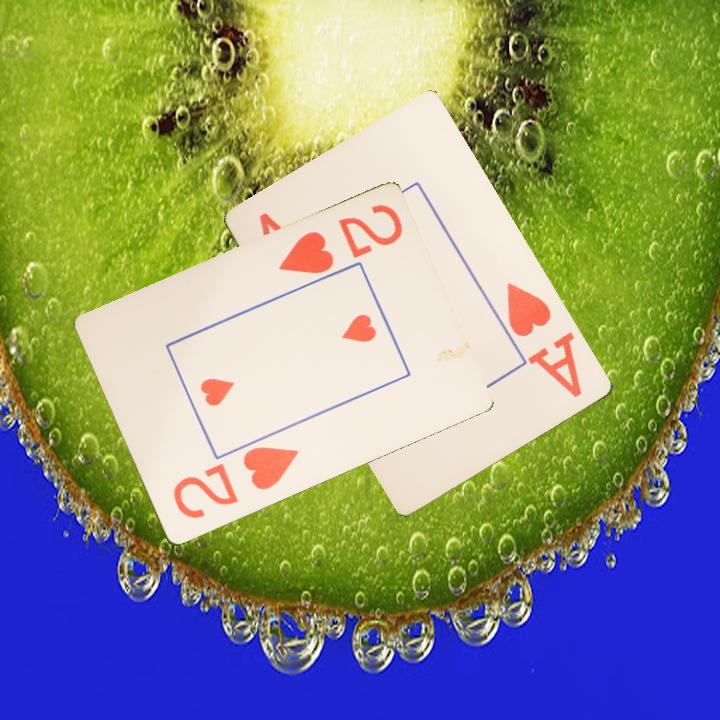2h: (169, 443, 302, 523), (274, 200, 406, 278)
Ah: (503, 278, 586, 401)
